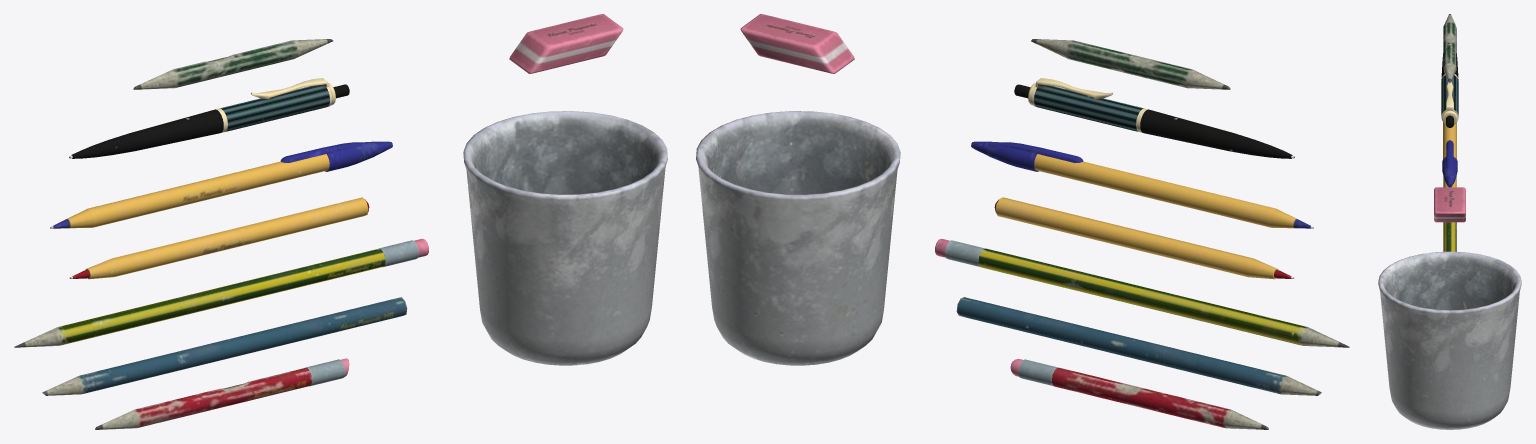
Rendered from stationery_supplies.glb.
The picture shows the model from 3 angles, left to right: view 1: azimuth 30°, elevation 25°; view 2: azimuth 150°, elevation 25°; view 3: azimuth 270°, elevation 25°; orthographic projection. The views are drawn at different scales.
Visible parts, largest first — view 1: stationery_supplies; view 2: stationery_supplies; view 3: stationery_supplies.
Boxes of the visible parts, x1,y1,x2,y2 form: stationery_supplies: [14, 14, 667, 429]; stationery_supplies: [696, 14, 1349, 429]; stationery_supplies: [1378, 14, 1521, 429].
Size of the model in its own units: 0.3019 by 0.1643 by 0.0837.
Materials: 1 (1 with a texture image).
